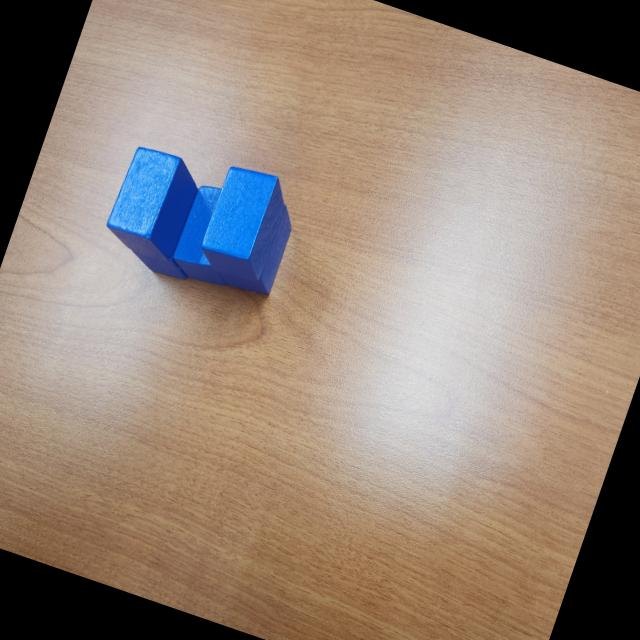blue: (99, 140, 208, 270), (194, 160, 294, 285), (211, 188, 300, 304), (128, 176, 217, 284), (167, 176, 250, 288)
